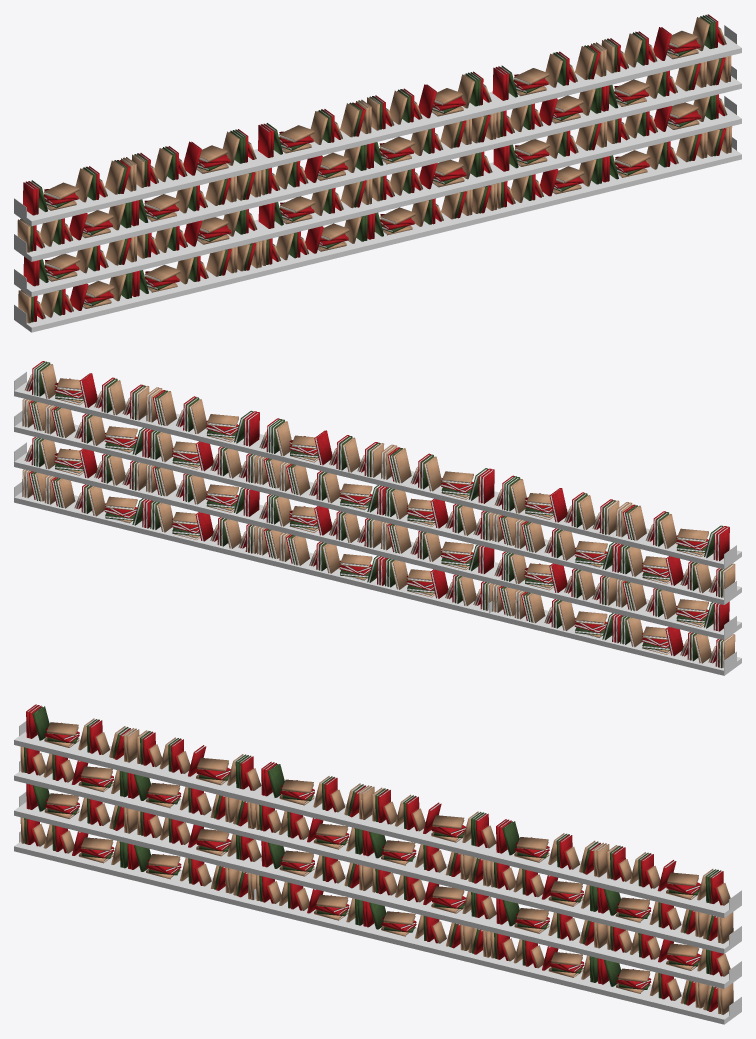
The model's file is estanteriaBajaLargaFINAL.fbx.
3 renders of one model, top to bottom at view 1: azimuth 30°, elevation 25°; view 2: azimuth 150°, elevation 25°; view 3: azimuth 330°, elevation 25°, orthographic.
Parts seen in each view (by area): view 1: estanteriaBAJA, estanteriaBAJA.002, estanteriaBAJA.001; view 2: estanteriaBAJA, estanteriaBAJA.002, estanteriaBAJA.001; view 3: estanteriaBAJA.002, estanteriaBAJA, estanteriaBAJA.001.
Boxes of the visible parts, left/top/right/bottom form: estanteriaBAJA: left=14, top=150, right=271, bottom=332; estanteriaBAJA.002: left=490, top=25, right=741, bottom=217; estanteriaBAJA.001: left=255, top=92, right=506, bottom=274; estanteriaBAJA: left=484, top=496, right=741, bottom=675; estanteriaBAJA.002: left=14, top=371, right=263, bottom=559; estanteriaBAJA.001: left=248, top=438, right=499, bottom=618; estanteriaBAJA.002: left=484, top=849, right=741, bottom=1024; estanteriaBAJA: left=14, top=721, right=261, bottom=908; estanteriaBAJA.001: left=249, top=792, right=496, bottom=965.
Size of the model in its own units: 1194 by 221 by 53.92.
